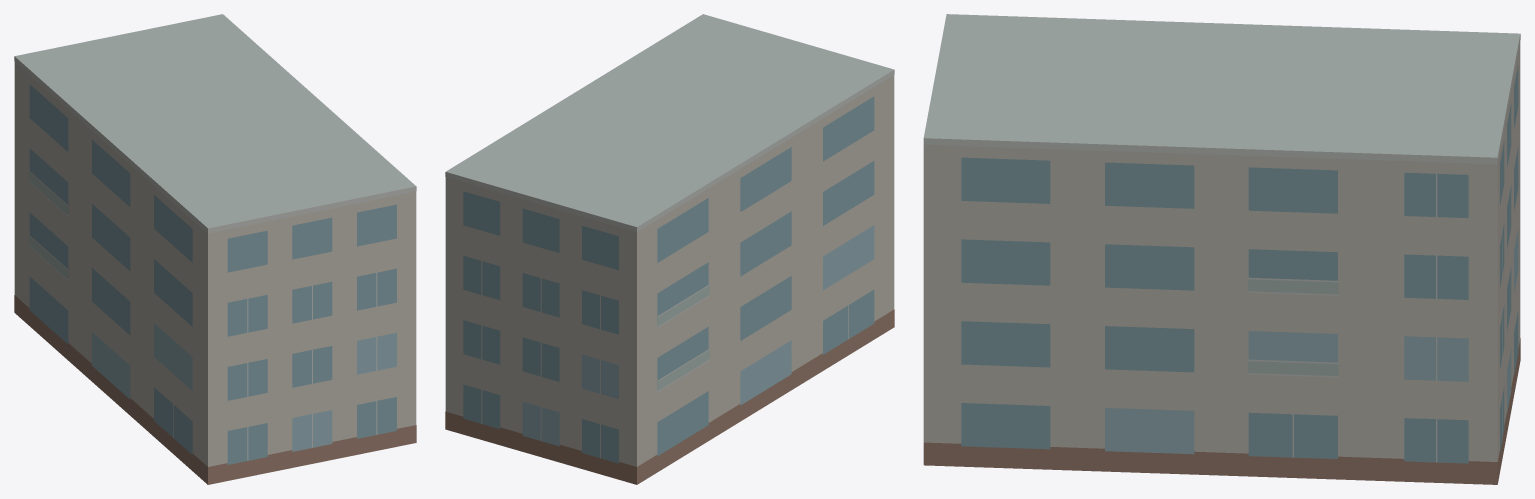
The model's file is survey-upis-32808422.glb.
The picture shows the model from 3 angles, left to right: view 1: azimuth 30°, elevation 25°; view 2: azimuth 150°, elevation 25°; view 3: azimuth 270°, elevation 25°; orthographic projection. The views are drawn at different scales.
Visible parts, largest first — view 1: survey-upis-32808422.tmp; view 2: survey-upis-32808422.tmp; view 3: survey-upis-32808422.tmp.
Boxes of the visible parts, x1,y1,x2,y2 form: survey-upis-32808422.tmp: (14, 14, 416, 484); survey-upis-32808422.tmp: (445, 14, 894, 484); survey-upis-32808422.tmp: (923, 14, 1520, 484).
Size of the model in its own units: 11.5 by 12.2 by 20.18.
